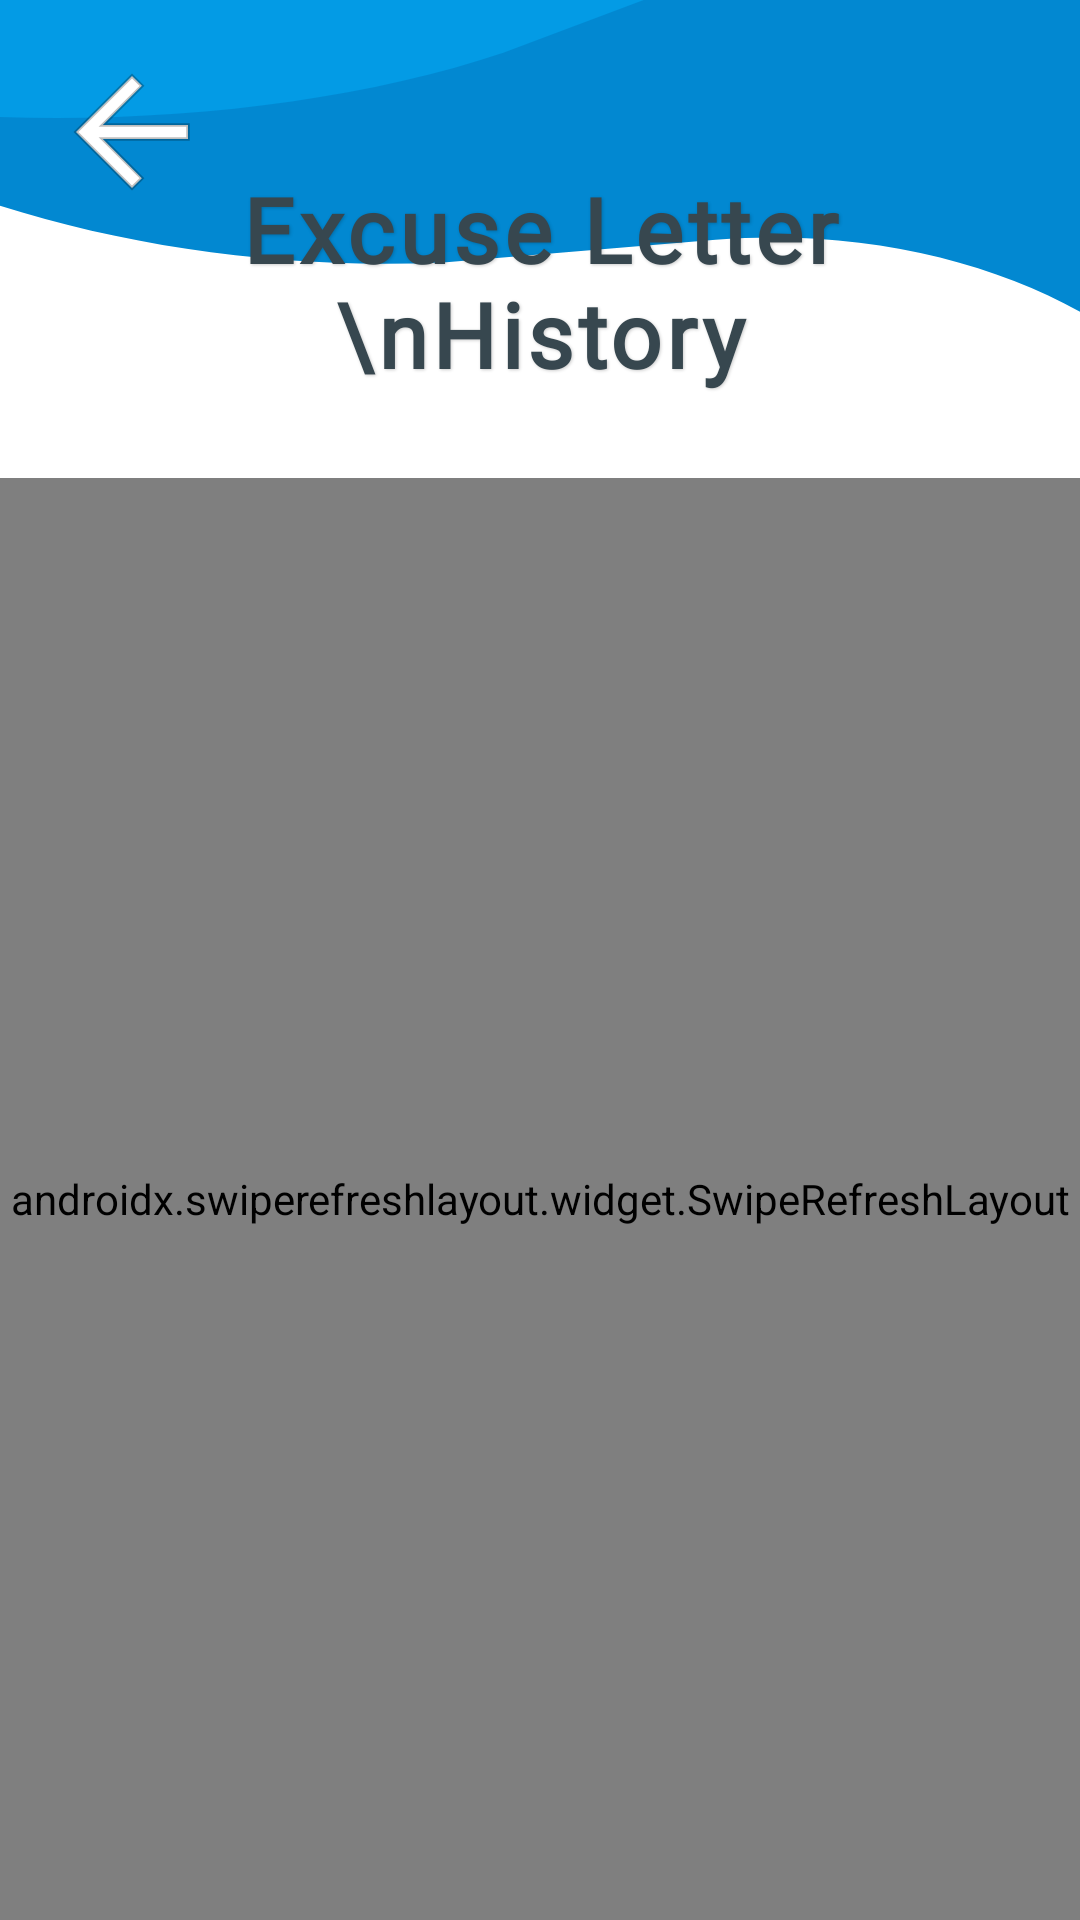

Icons on this 1080*1920 Android screen, each with the point to tap as point (x, y):
Back: point (132, 163)
